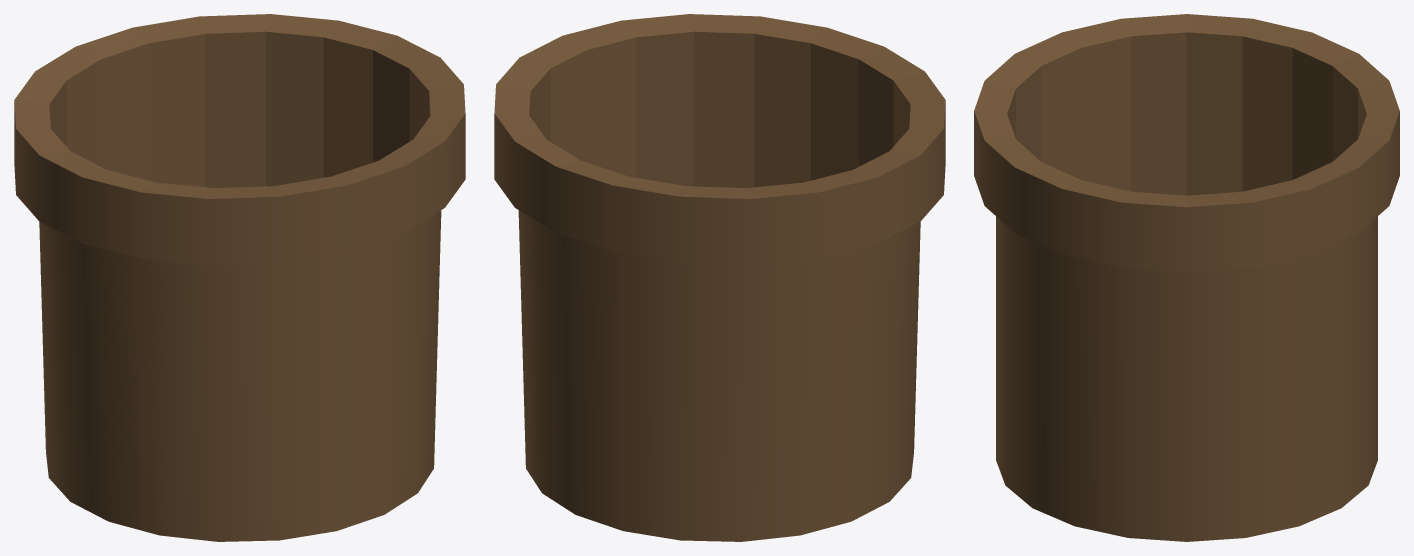
Rendered from VasoVazio.fbx.
The picture shows the model from 3 angles, left to right: view 1: azimuth 30°, elevation 25°; view 2: azimuth 150°, elevation 25°; view 3: azimuth 270°, elevation 25°; orthographic projection.
Visible parts, largest first — view 1: pCylinder1; view 2: pCylinder1; view 3: pCylinder1.
Boxes of the visible parts, x1,y1,x2,y2 form: pCylinder1: (14, 14, 465, 541); pCylinder1: (494, 14, 945, 541); pCylinder1: (974, 14, 1399, 541).
Size of the model in its own units: 2.39 by 2.02 by 2.23.
